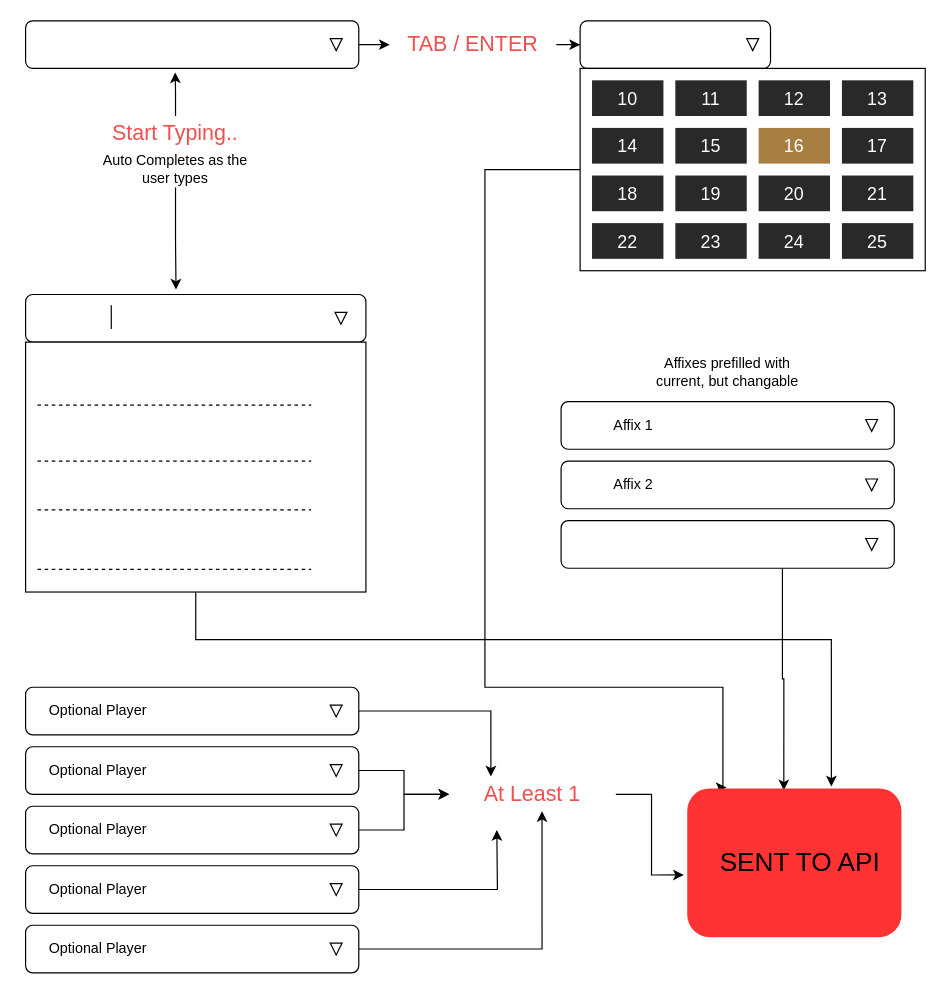
Some shapes in this 946 by 994 pixel diagram are drawn without their labels. Here are the shapes that lost their labels. From the top down, the centre of each, then its label:
At [191,44]: "Select Dungeon".
At [675,44]: "Key Level".
At [195,317]: "Halls of ..".
At [195,466]: "Halls of Stone Halls of Infusion Halls of Valor Halls of Lightening".
At [727,543]: "Affix 3".
